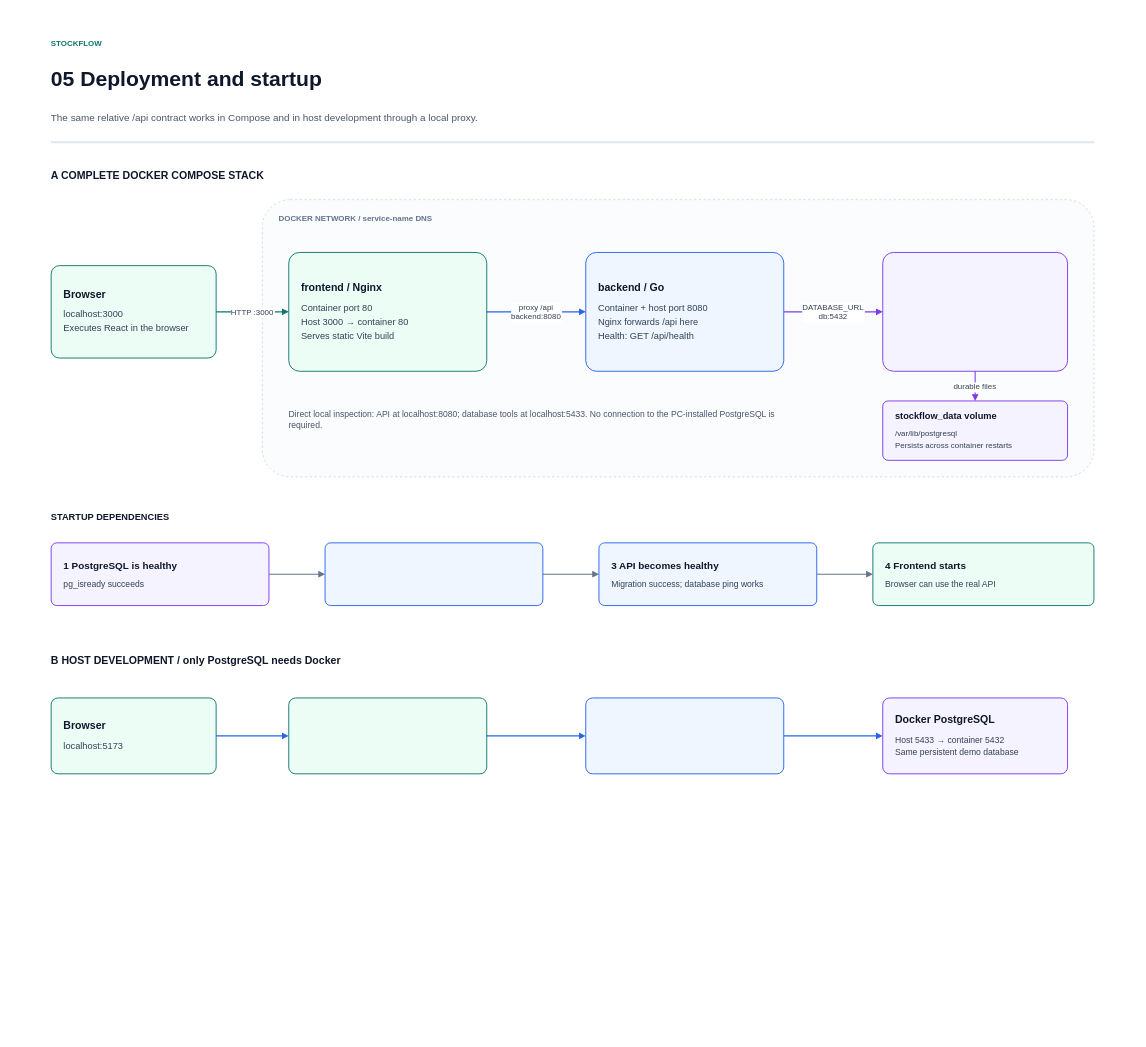
This 1146x1047 diagram has some shape labels left out. The shapes that lost their labels are listed below. From the top down, each one's box as (x1, y1, x2, y2) in pixels, then its label:
(882, 252, 1068, 371): db / PostgreSQL Container port 5432 Host 5433 → container 5432 Go uses db:5432
(324, 542, 543, 606): 2 Go starts + migrates Goose lock; schema + demo seed once
(288, 697, 487, 774): Host Vite server npm run dev /api proxy → 127.0.0.1:8080
(585, 697, 784, 774): Host Go process go run ./cmd/api DATABASE_URL → localhost:5433
